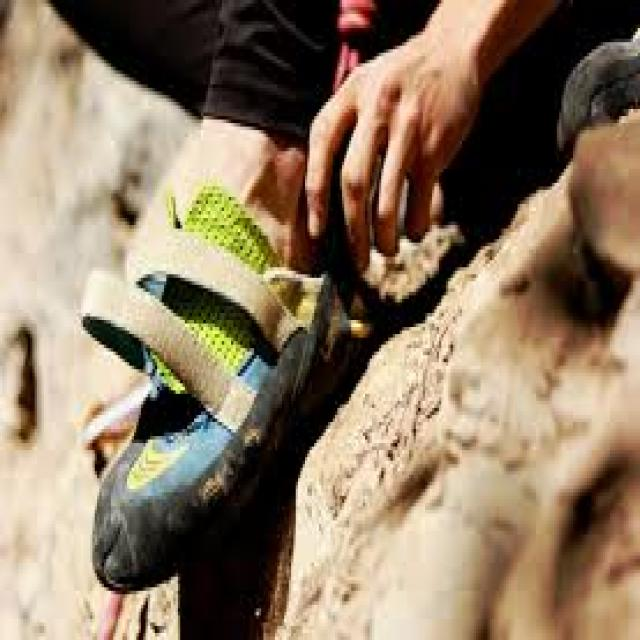climbing-shoes: (91, 192, 368, 596)
